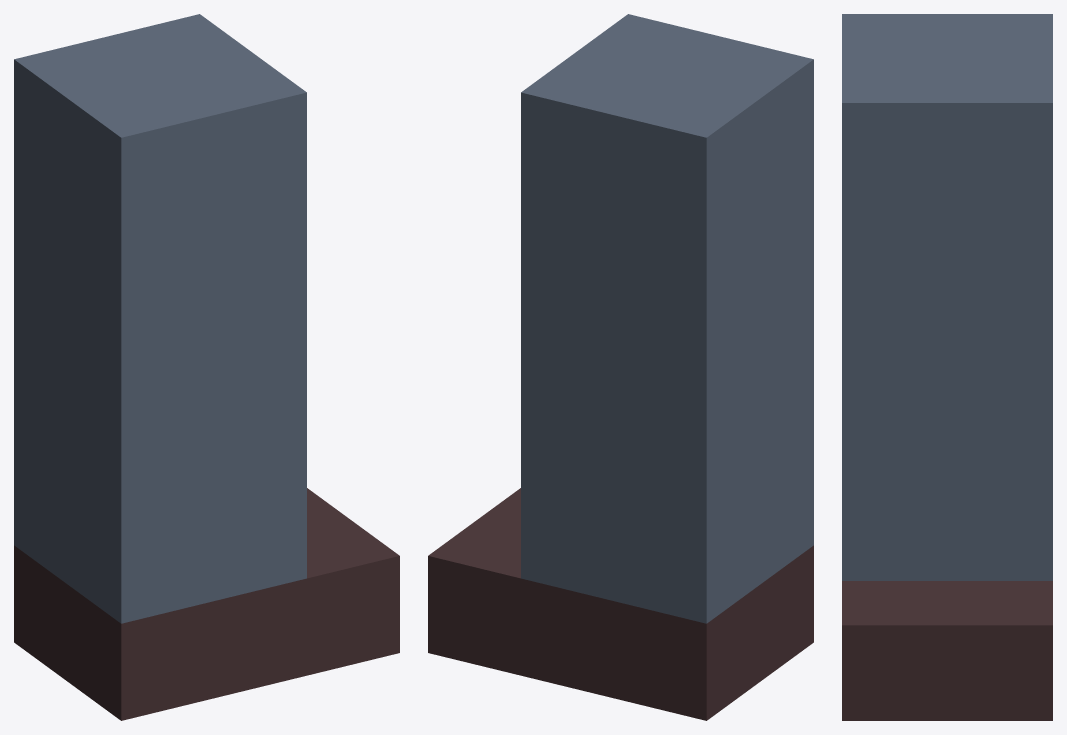
The model's file is leftleg.obj.
3 renders of one model, left to right at view 1: azimuth 30°, elevation 25°; view 2: azimuth 150°, elevation 25°; view 3: azimuth 270°, elevation 25°, orthographic.
Bounding box in the file's own units: 3 × 6 × 2.
Materials: 1 (1 with a texture image).
